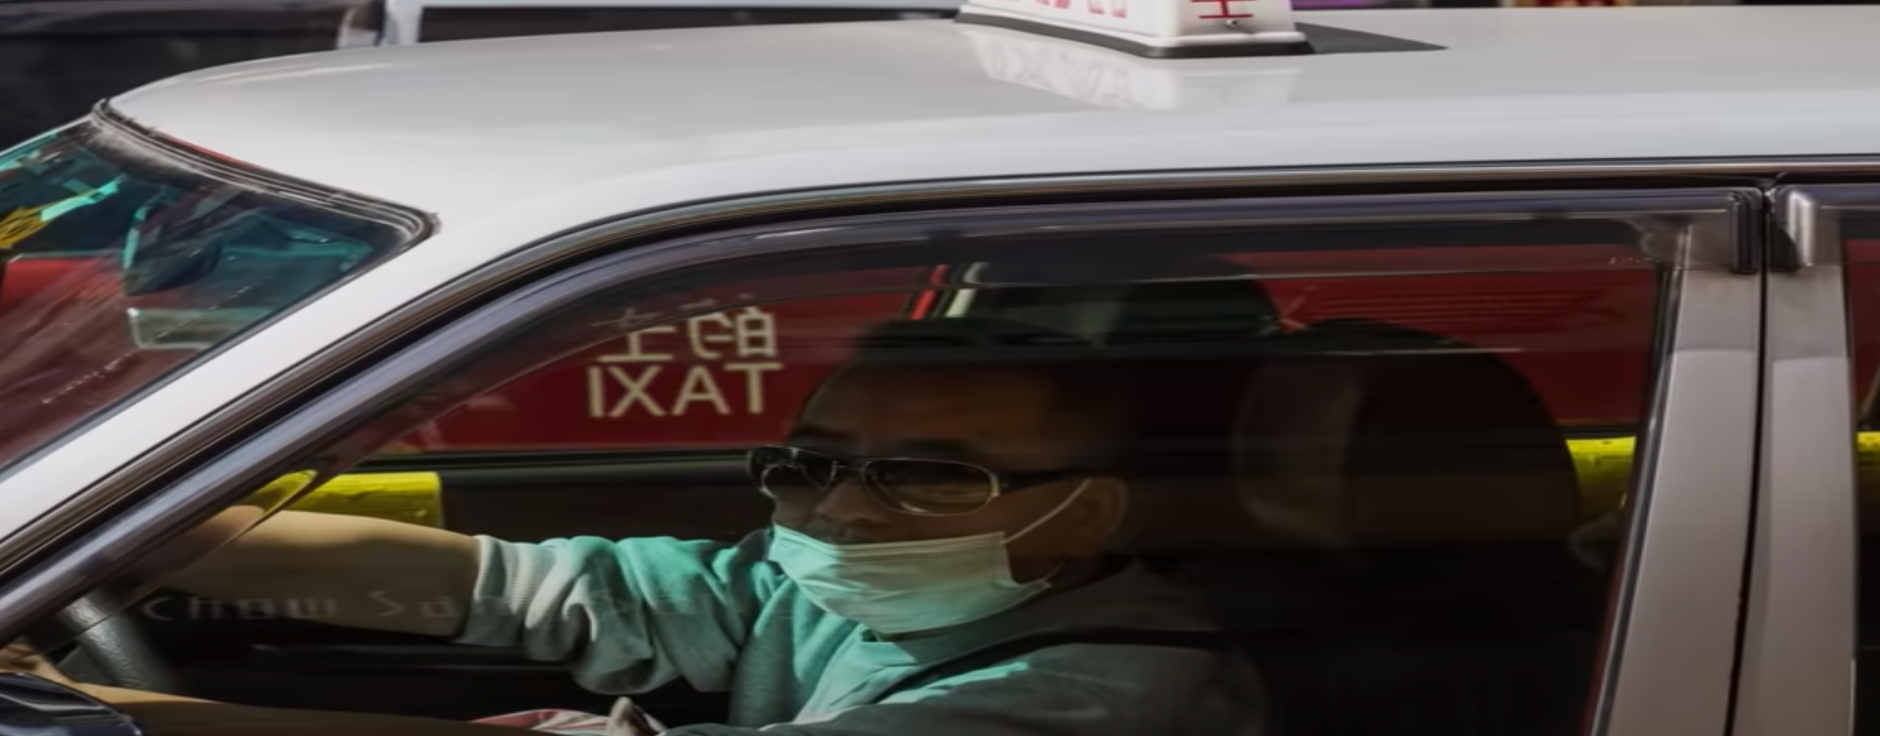mask_weared_incorrect: (754, 322, 1173, 639)
